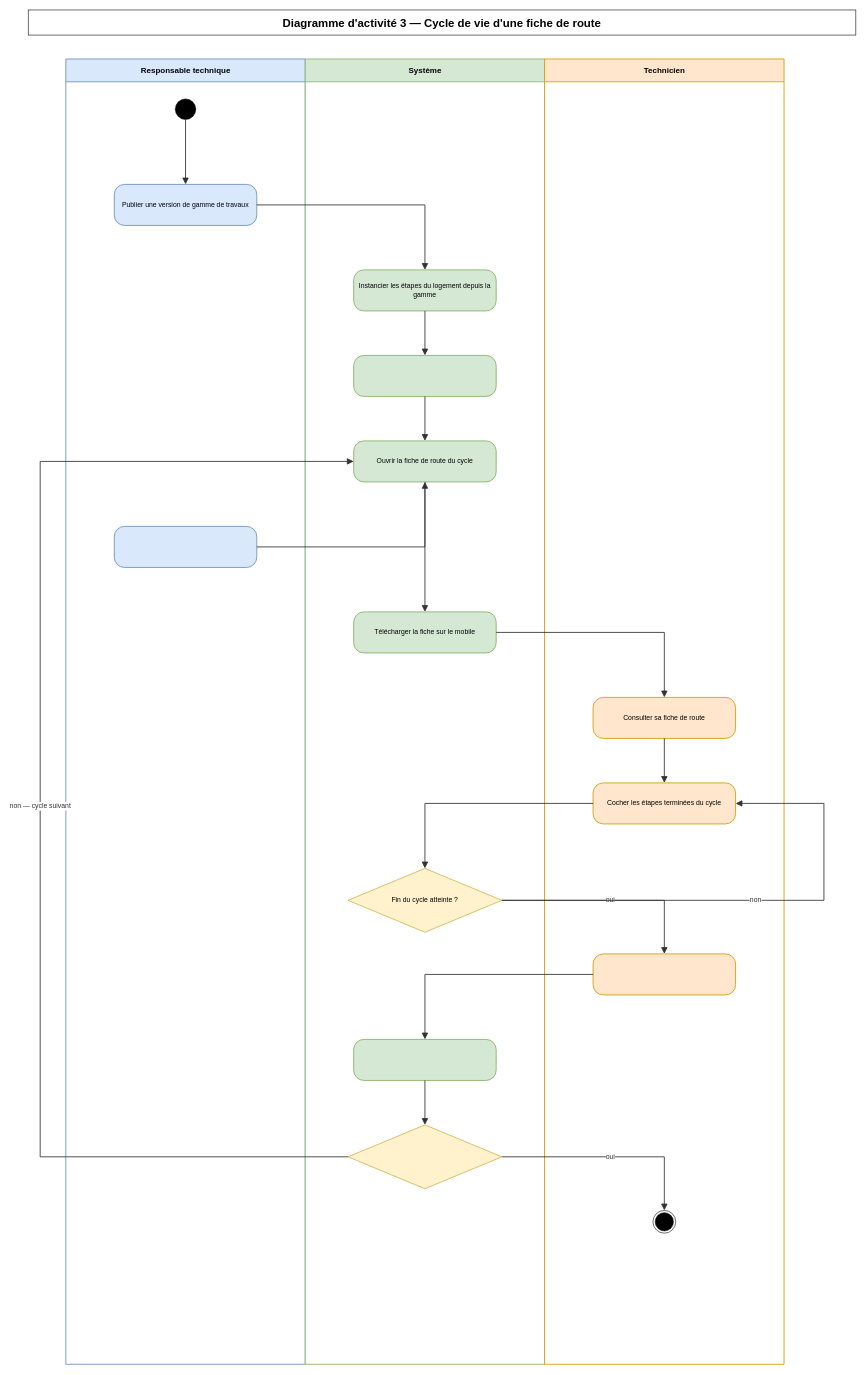
This 866x1375 diagram has some shape labels left out. The shapes that lost their labels are listed below. From the top down, each one's centre as x and y in pixels, then its label:
(x=424, y=376): Lire le type de cycle du chantier
(x=185, y=547): Affecter les étapes et fixer les dates prévues
(x=664, y=974): Clôturer la fiche de route
(x=424, y=1060): Reporter les étapes non faites avec leur motif
(x=424, y=1156): Toutes les étapes du logement sont-elles validées ?
